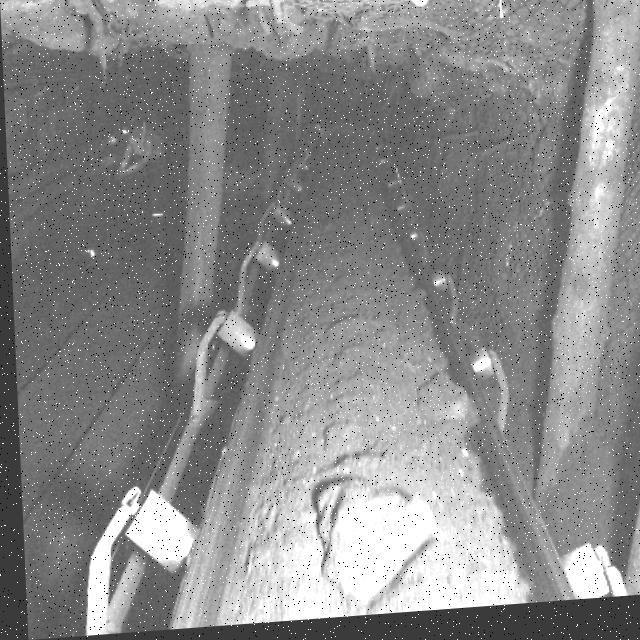large_sized_coal: (305, 482, 429, 605), (418, 377, 469, 435)
